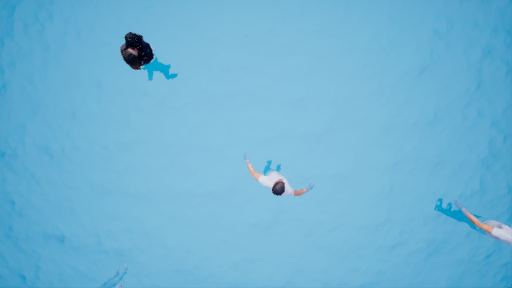person: (429, 198, 512, 248), (242, 150, 317, 203), (114, 27, 181, 86)
